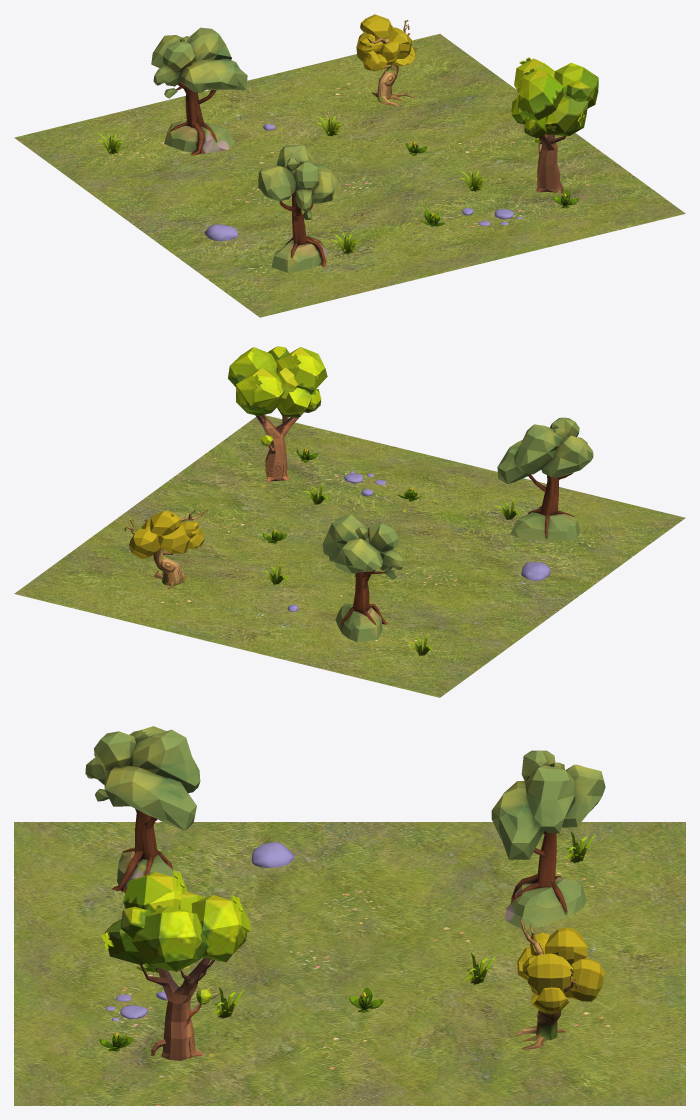
The picture shows the model from 3 angles, top to bottom: view 1: azimuth 30°, elevation 25°; view 2: azimuth 150°, elevation 25°; view 3: azimuth 270°, elevation 25°; orthographic projection. The views are drawn at different scales.
Visible parts, largest first — view 1: 平面, Tree_01_03.002, Tree02-01.001, Tree_01_03.001, Tree_01_01; view 2: 平面, Tree02-01.001, Tree_01_03.001, Tree_01_03.002, Tree_01_01; view 3: 平面, Tree02-01.001, Tree_01_03.002, Tree_01_03.001, Tree_01_01, Stone_02, Stone_03.
Boxes of the visible parts, left/top/right/bottom form: 平面: left=14, top=34, right=685, bottom=317; Tree_01_03.002: left=151, top=27, right=247, bottom=155; Tree02-01.001: left=511, top=57, right=598, bottom=193; Tree_01_03.001: left=258, top=145, right=338, bottom=272; Tree_01_01: left=356, top=14, right=417, bottom=107; 平面: left=14, top=415, right=685, bottom=697; Tree02-01.001: left=228, top=346, right=327, bottom=483; Tree_01_03.001: left=497, top=417, right=593, bottom=540; Tree_01_03.002: left=322, top=514, right=403, bottom=642; Tree_01_01: left=124, top=509, right=207, bottom=589; 平面: left=14, top=822, right=685, bottom=1105; Tree02-01.001: left=101, top=871, right=250, bottom=1060; Tree_01_03.002: left=491, top=750, right=605, bottom=928; Tree_01_03.001: left=85, top=726, right=200, bottom=893; Tree_01_01: left=508, top=919, right=605, bottom=1049; Stone_02: left=251, top=842, right=294, bottom=867; Stone_03: left=105, top=991, right=167, bottom=1020.
Size of what is drawn, in the model's own units: 16 by 4.77 by 16.
Materials: 9 (9 with a texture image).
